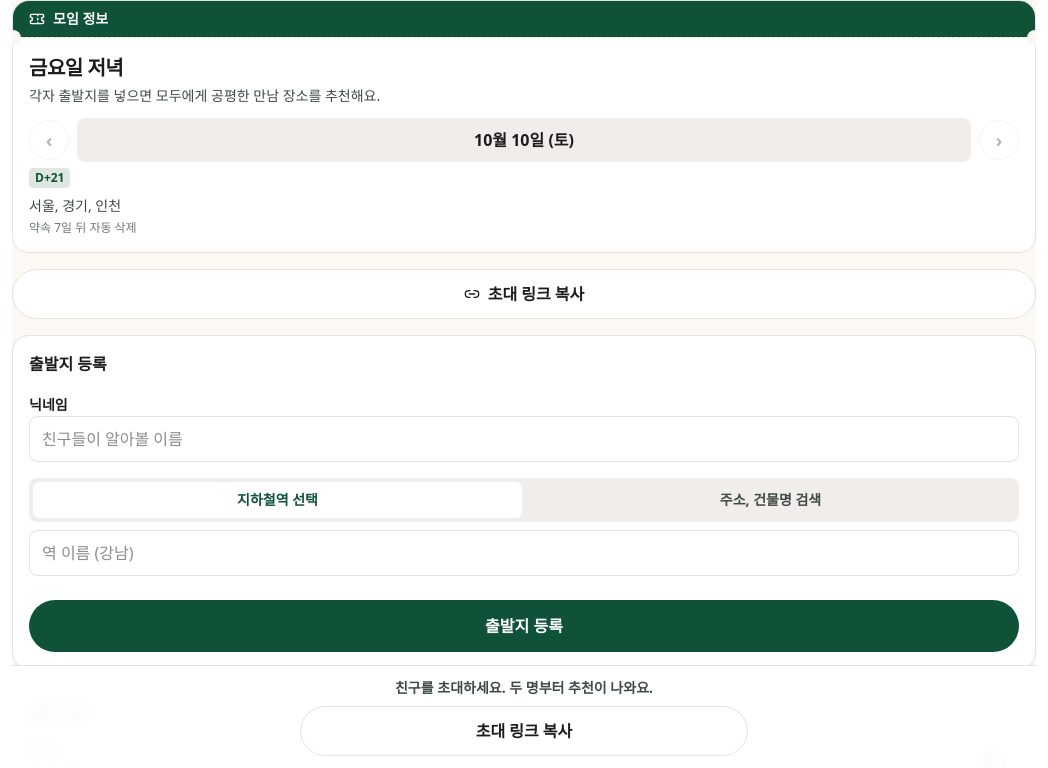
it: 한 명 이하면 초대 안내와 함께 링크 복사 버튼을 보여준다
Click the button "초대 링크 복사" below "친구를 초대하세요. 두 명부터 추천이 나와요." at (524, 731), box [300,706,748,756]
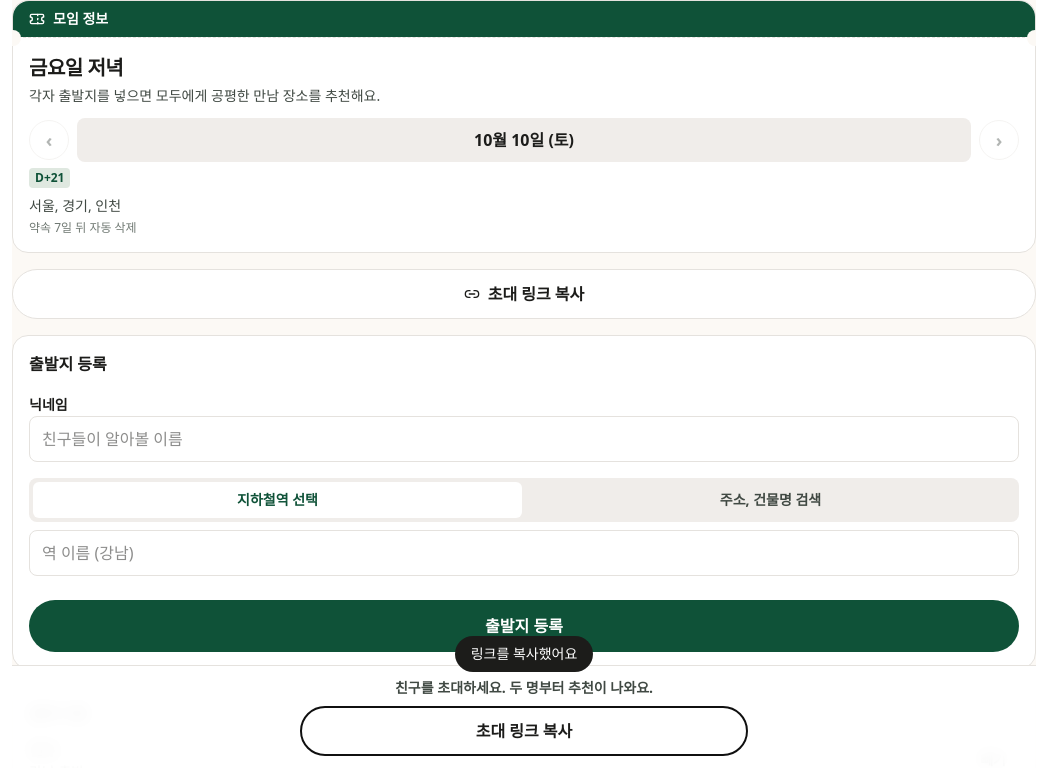
expect the text "링크를 복사했어요" is shown: met, box [455,636,593,672]
